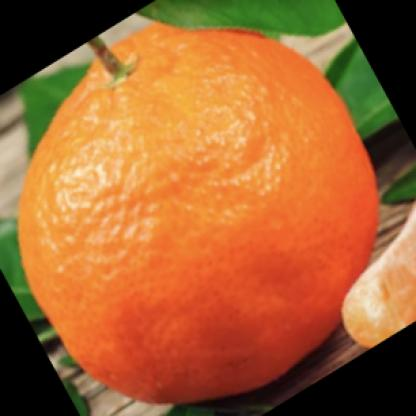fresh: (19, 22, 379, 405)
